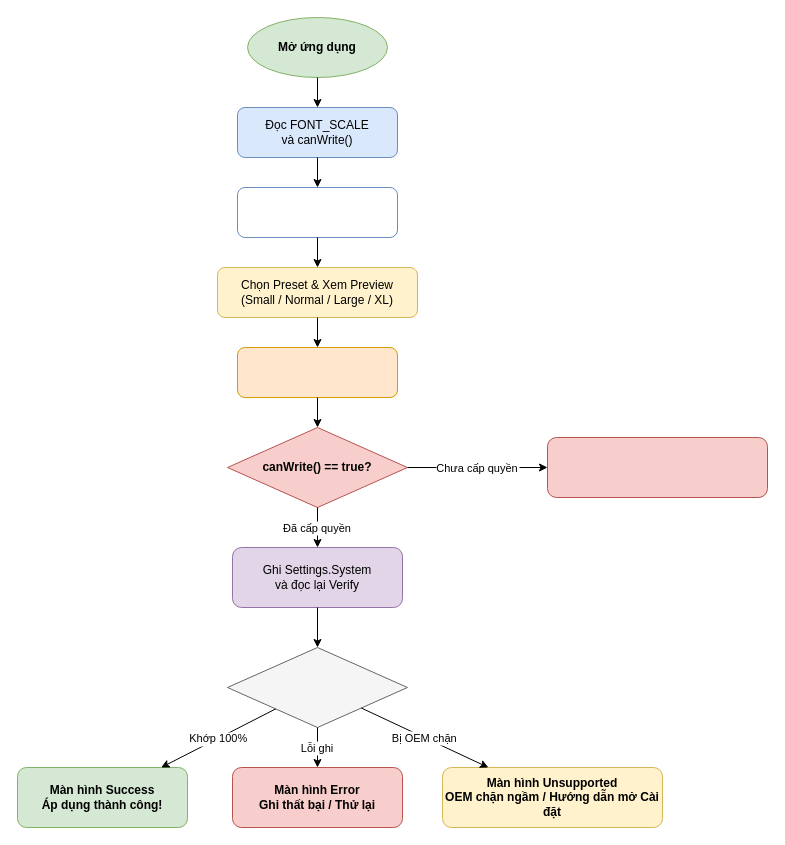
This 785x845 diagram has some shape labels left out. The shapes that lost their labels are listed below. From the top down, each one's centre as x and y in pixels, then its label:
At point 317,212: "Giao diện Ready: Hiển thị cỡ chữ hiện tại".
At point 317,372: "Bấm nút 'Áp dụng'".
At point 657,467: "Hiển thị màn hình/Dialog Yêu cầu cấp quyền WRITE_SETTINGS".
At point 317,687: "Verify khớp giá trị?".
